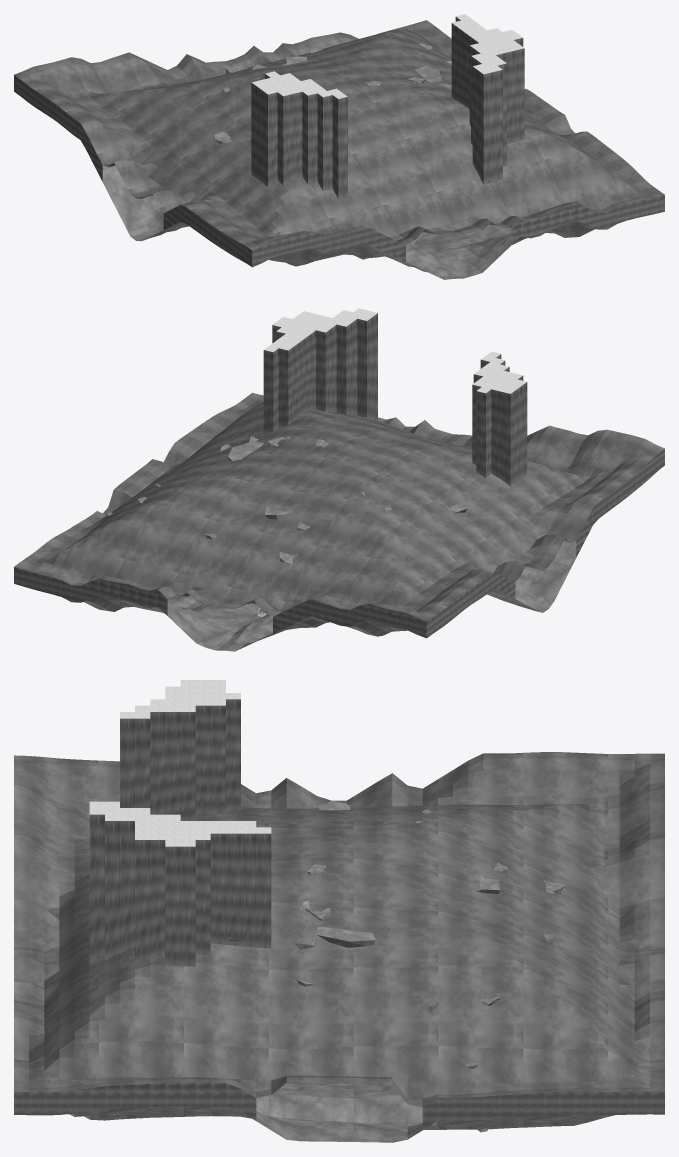
3 renders of one model, top to bottom at view 1: azimuth 30°, elevation 25°; view 2: azimuth 150°, elevation 25°; view 3: azimuth 270°, elevation 25°, orthographic. The views are drawn at different scales.
Visible parts, largest first — view 1: CavernVault, CavernShaft, CavernWalls, CavernFloor, CavernSkyCap, CavernStalactites; view 2: CavernVault, CavernShaft, CavernWalls, CavernFloor, CavernSkyCap, CavernStalactites; view 3: CavernVault, CavernShaft, CavernFloor, CavernWalls, CavernSkyCap, CavernStalactites.
Part boxes in pixels (x1,y1,x2,y2): CavernVault: (14,20,664,250); CavernShaft: (251,17,524,198); CavernWalls: (14,75,664,267); CavernFloor: (102,165,595,279); CavernSkyCap: (252,14,524,98); CavernStalactites: (215,43,451,143); CavernVault: (14,392,664,621); CavernShaft: (263,313,527,485); CavernWalls: (14,449,664,638); CavernFloor: (83,540,576,651); CavernSkyCap: (264,308,526,393); CavernStalactites: (107,427,467,539); CavernVault: (14,752,664,1107); CavernShaft: (89,699,271,966); CavernFloor: (68,1082,615,1142); CavernWalls: (14,1082,664,1129); CavernSkyCap: (89,680,271,846); CavernStalactites: (227,800,553,1068).
Bounding box in the file's own units: 92 × 42.52 × 92.
6 materials, 6 textured.
